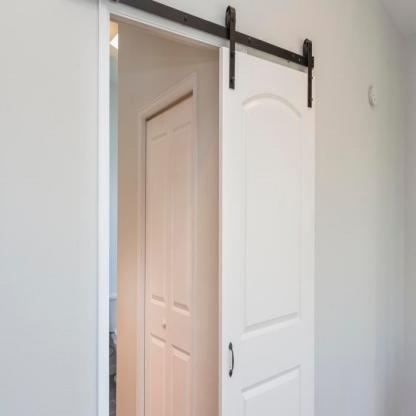Door: (222, 55, 315, 416), (140, 79, 193, 416)
